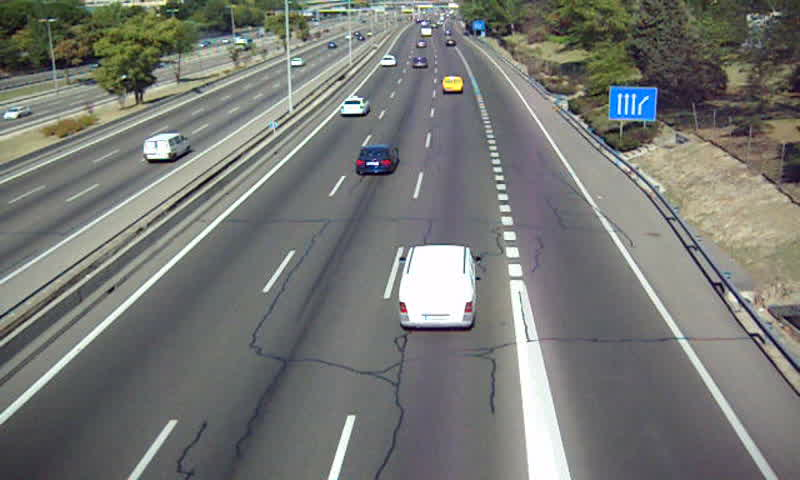car: (355, 146, 399, 173), (340, 97, 370, 116), (411, 55, 429, 69), (379, 54, 395, 67)
van: (399, 245, 478, 329), (442, 76, 464, 95)
